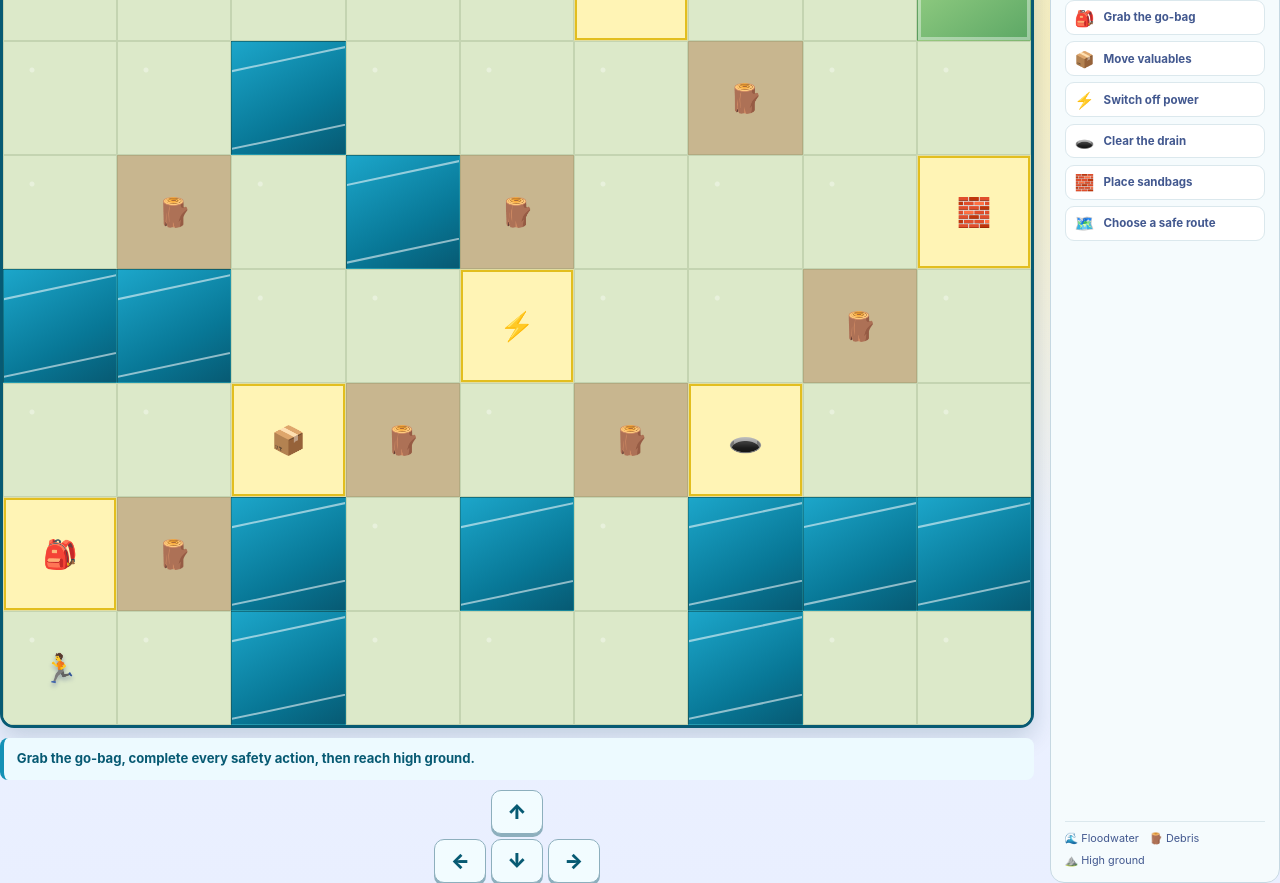
Scenario: FloodEscapeGame › blocks movement into floodwater and teaches the safety rule
This screenshot has width=1280, height=883.
(page scrolled)
Click the button named "move right" at {"x": 574, "y": 861}, box [548,839,600,882]
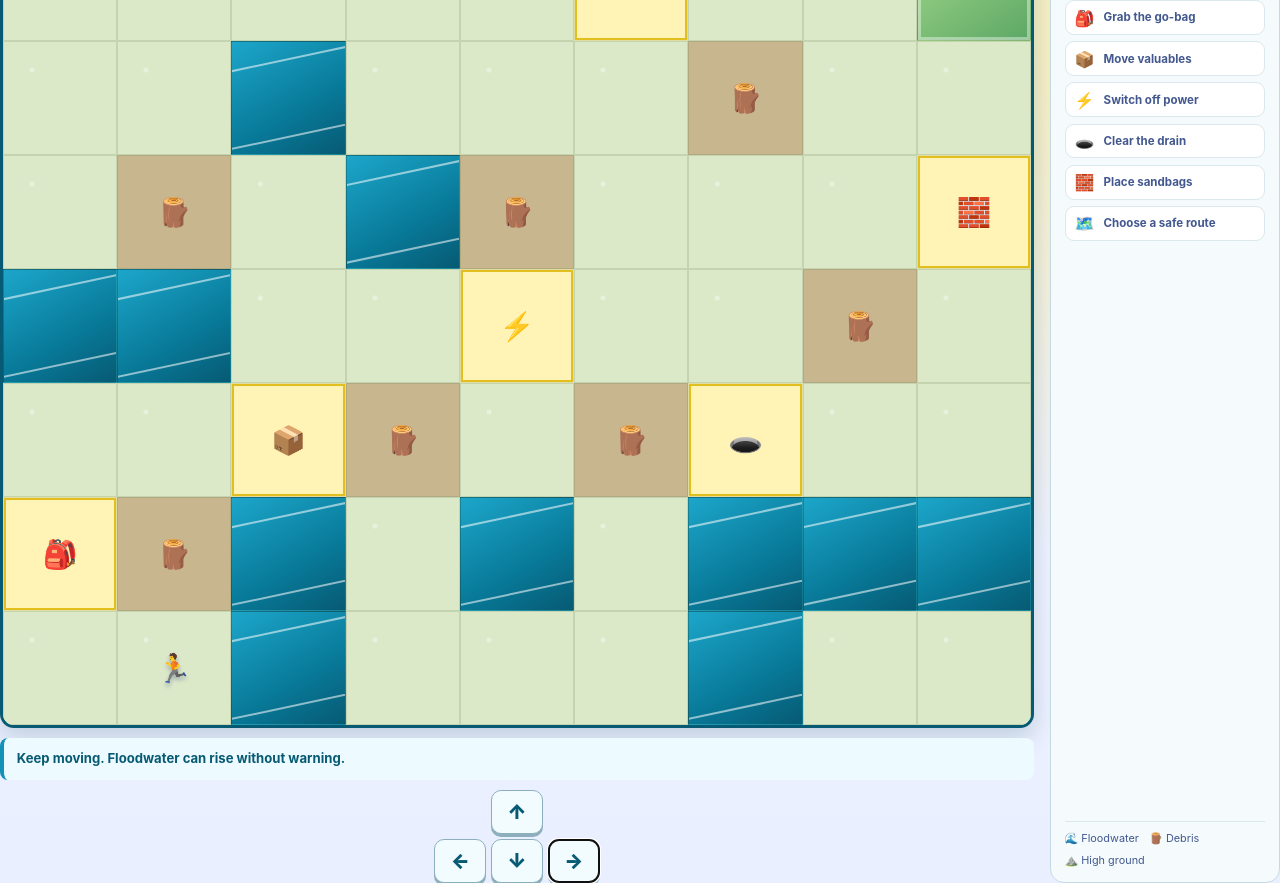
Click the button named "move right" at {"x": 574, "y": 861}, box [548,839,600,882]
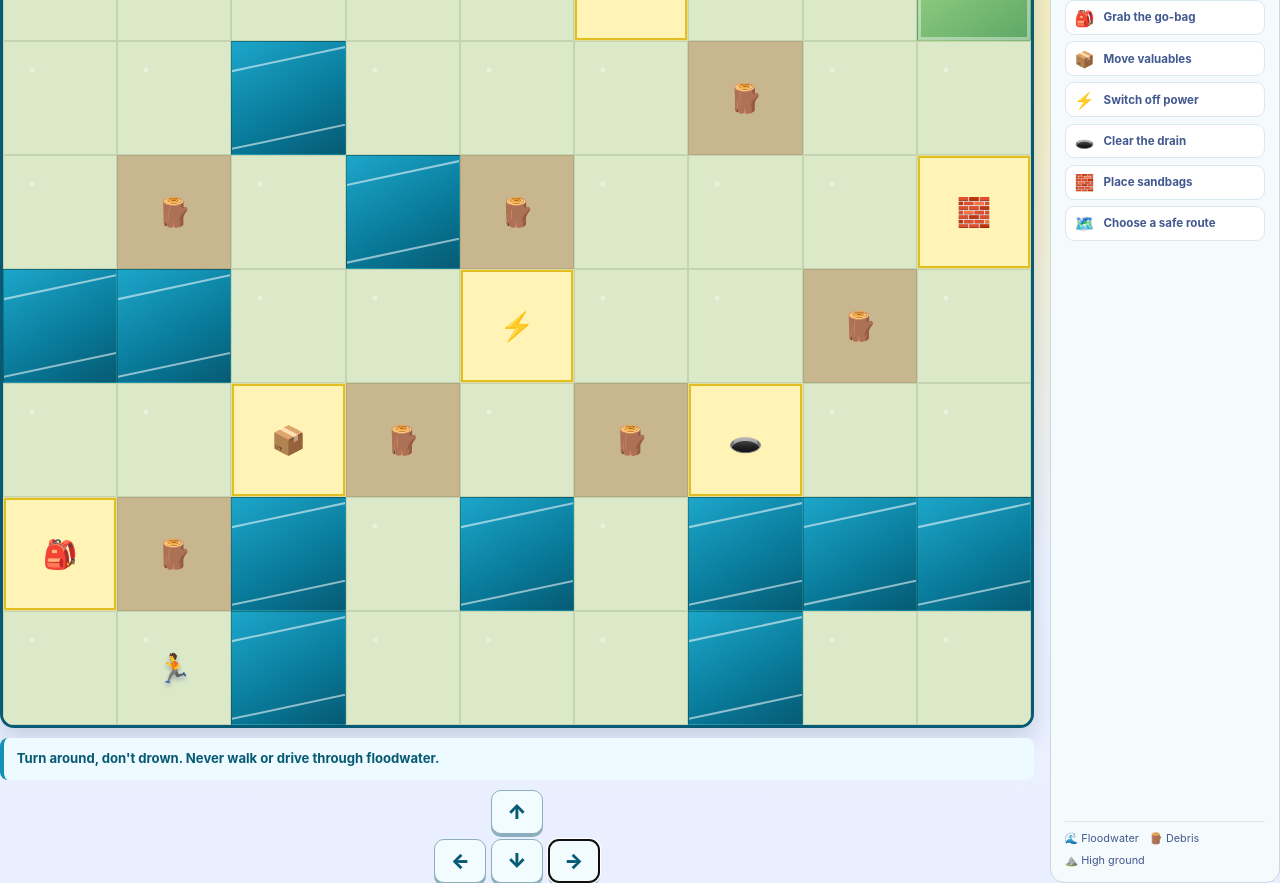
expect the text "Never walk or drive through floodwater" is shown: met, box [17,750,440,766]
